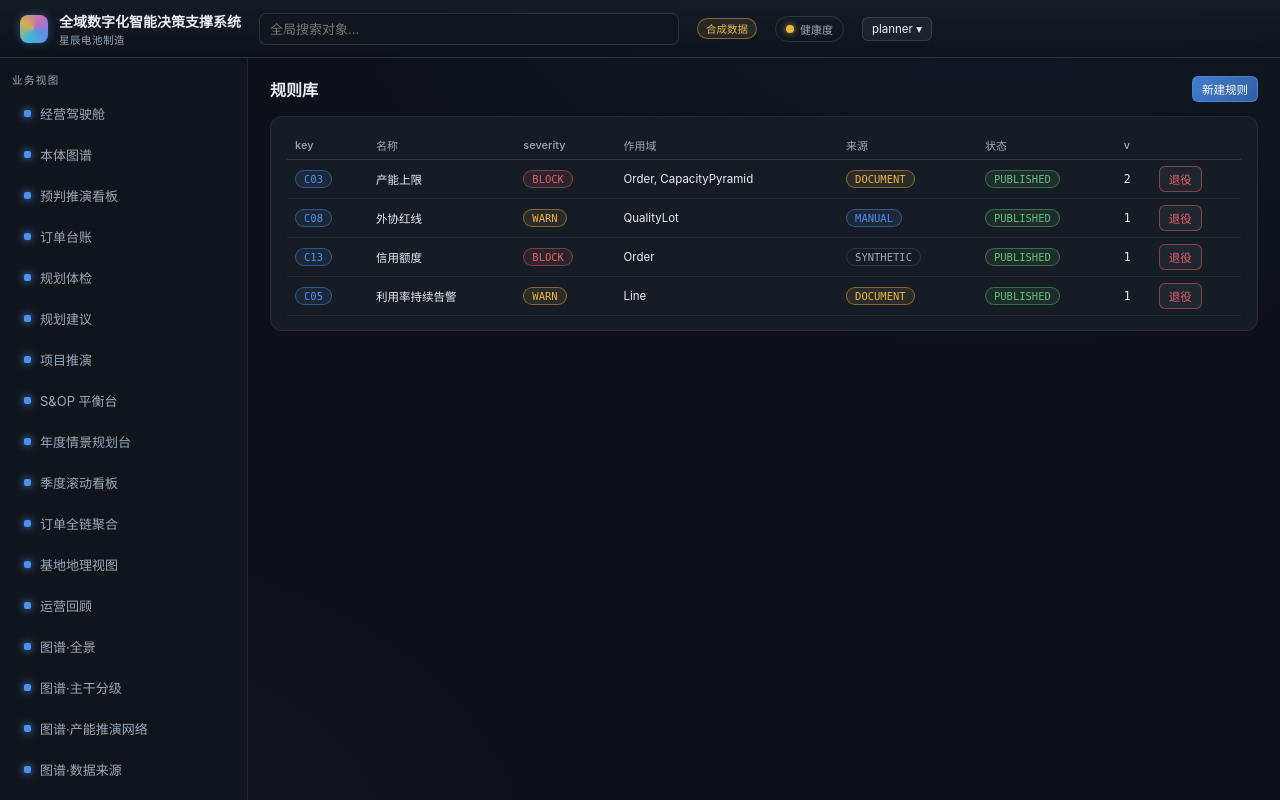
F34 · 规则手工管理（管理平台 §5） › 新建规则保存（origin=MANUAL DRAFT）→ 入表
expect the text with test id "rule-origin-C03" is shown: met, box [846,170,915,188]
Click the button with test id "rule-create" at (1225, 89), box [1192,76,1258,102]
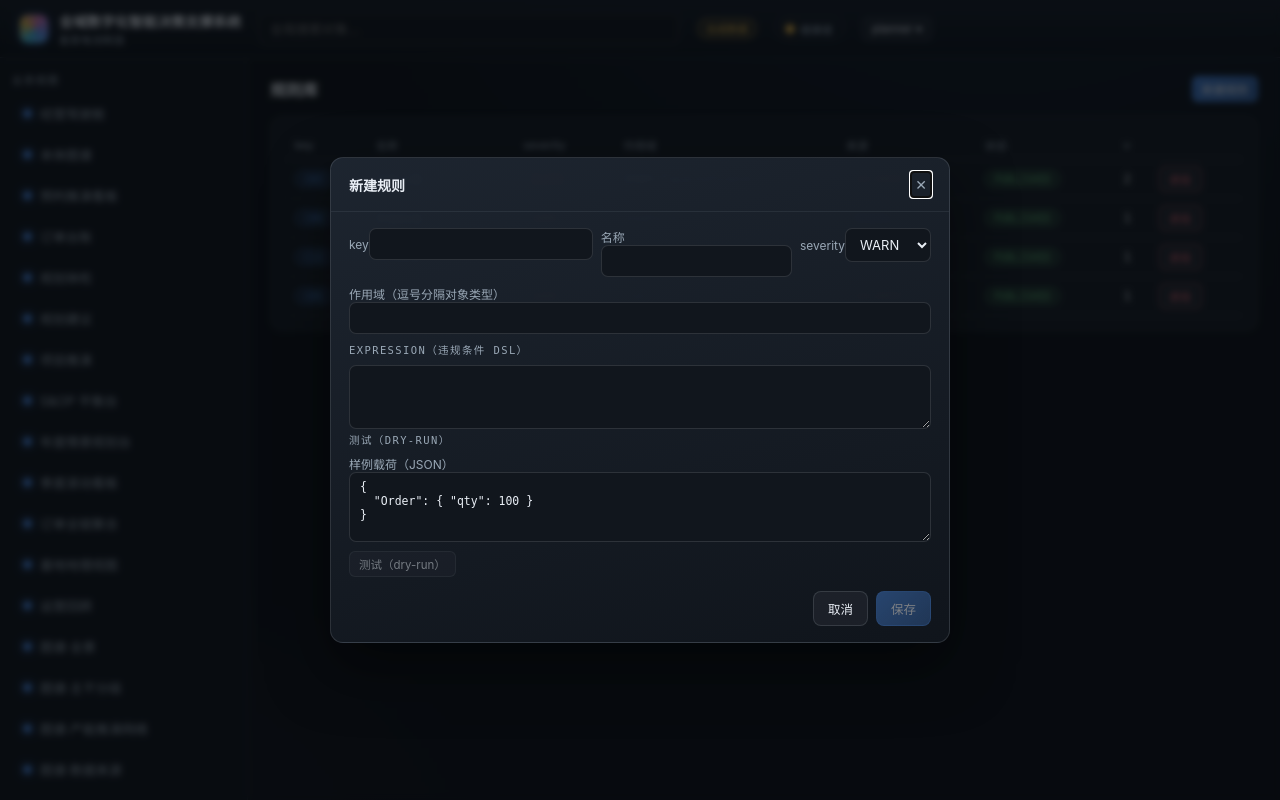
Type "C99" into the field with test id "rule-key-input" at (481, 244), box [369,228,593,260]
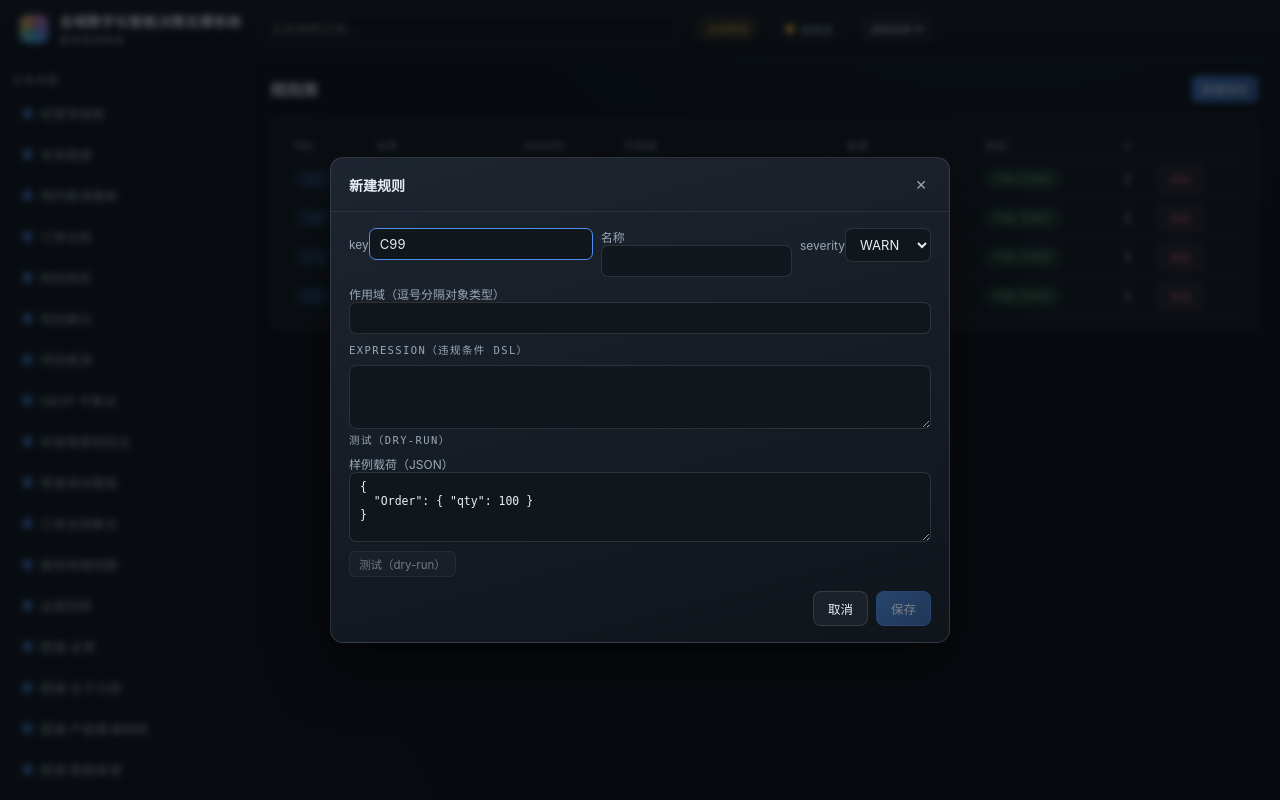
Type "手工新规则" into the field with test id "rule-name-input" at (696, 261), box [601,245,792,277]
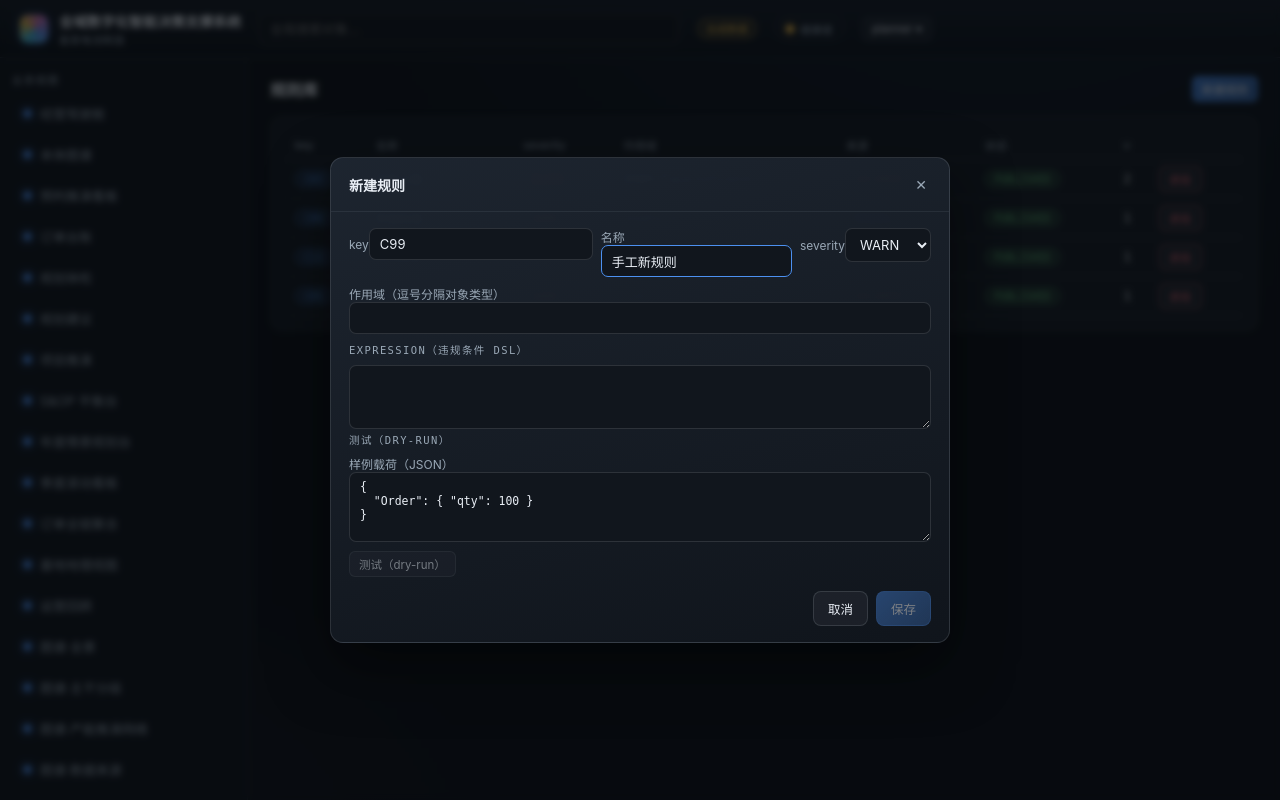
Type "Order.qty > 999" into the text box with test id "rule-expression" at (640, 397), box [349,365,931,429]
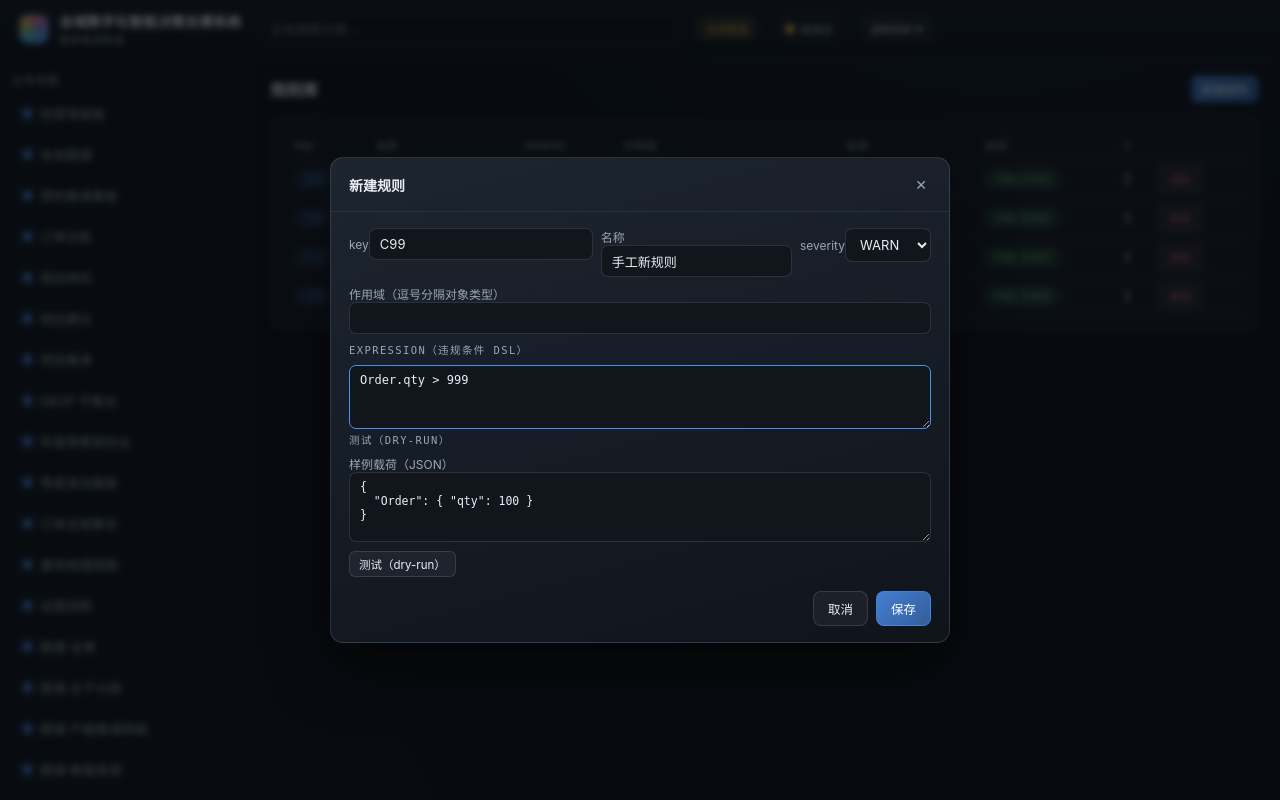
Click the button with test id "rule-save" at (904, 608), box [876,591,931,626]
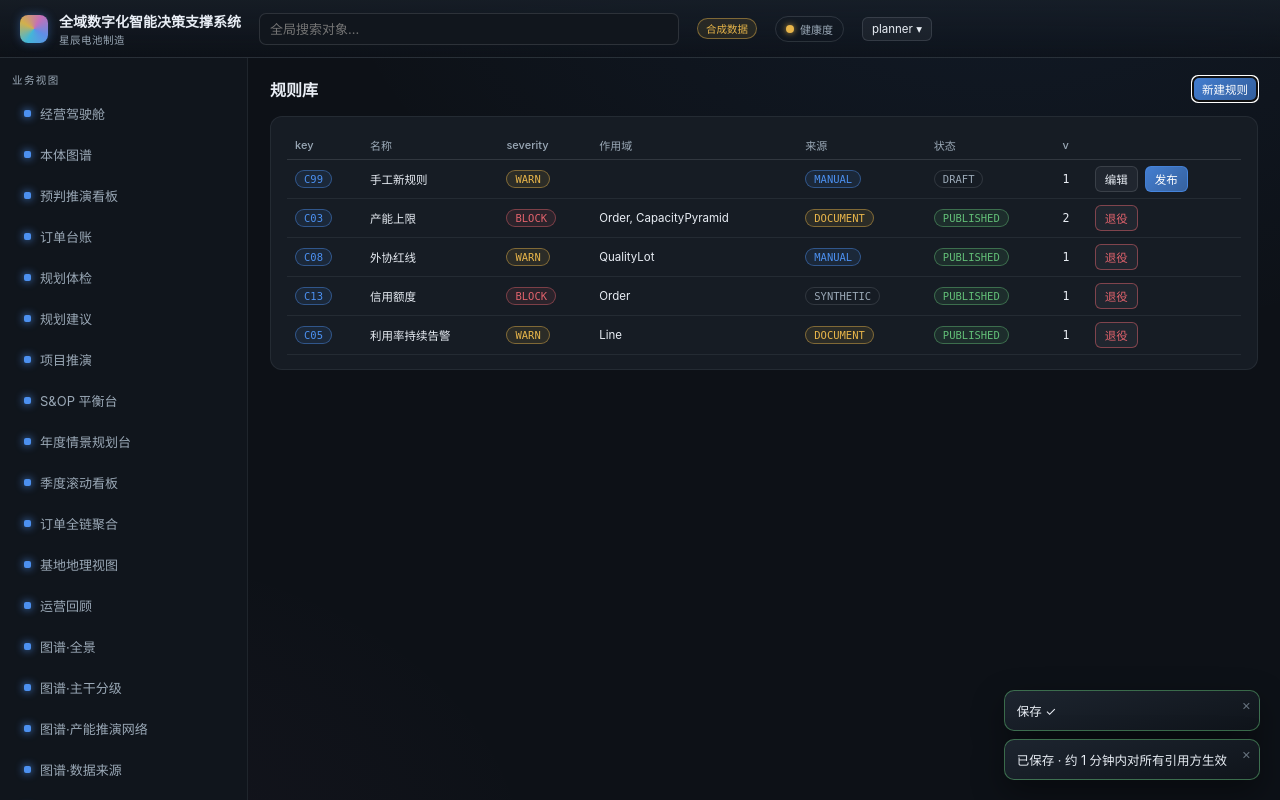
expect the text "MANUAL" in the row of "C08" is shown: met, box [814,251,852,263]
expect the text with test id "rule-origin-C99" reads "MANUAL": met, box [814,173,852,185]
